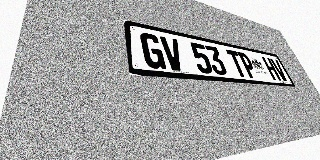3: (204, 45, 228, 76)
5: (190, 42, 214, 74)
G: (139, 32, 166, 70)
H: (261, 57, 281, 81)
P: (237, 52, 259, 78)
T: (226, 49, 248, 77)
V: (160, 36, 186, 71), (270, 58, 289, 81)
